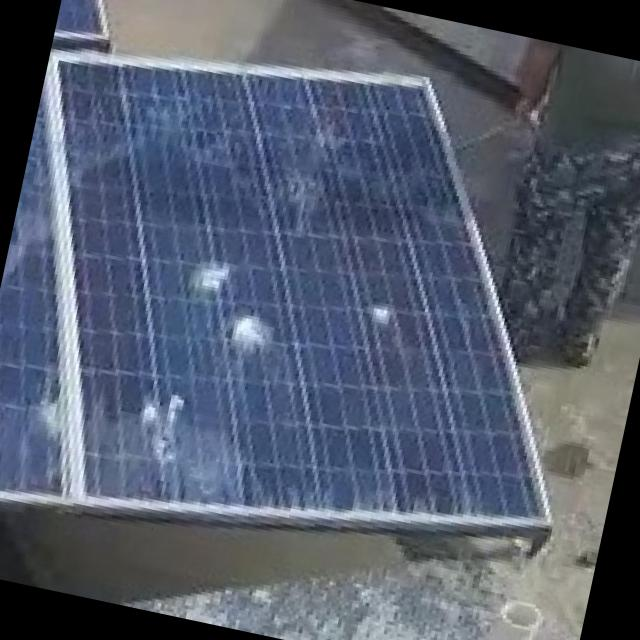faulty: (64, 71, 529, 515), (210, 296, 312, 374), (116, 377, 191, 475), (157, 240, 245, 316), (351, 294, 409, 336)
